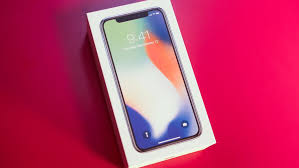iphone: (98, 5, 200, 153)
iphone10: (100, 5, 202, 153)
